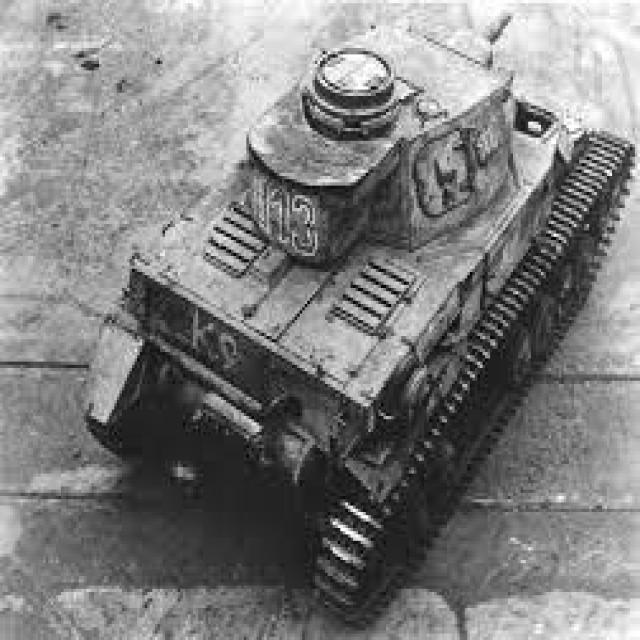MIL_MBT: (86, 40, 630, 613)
